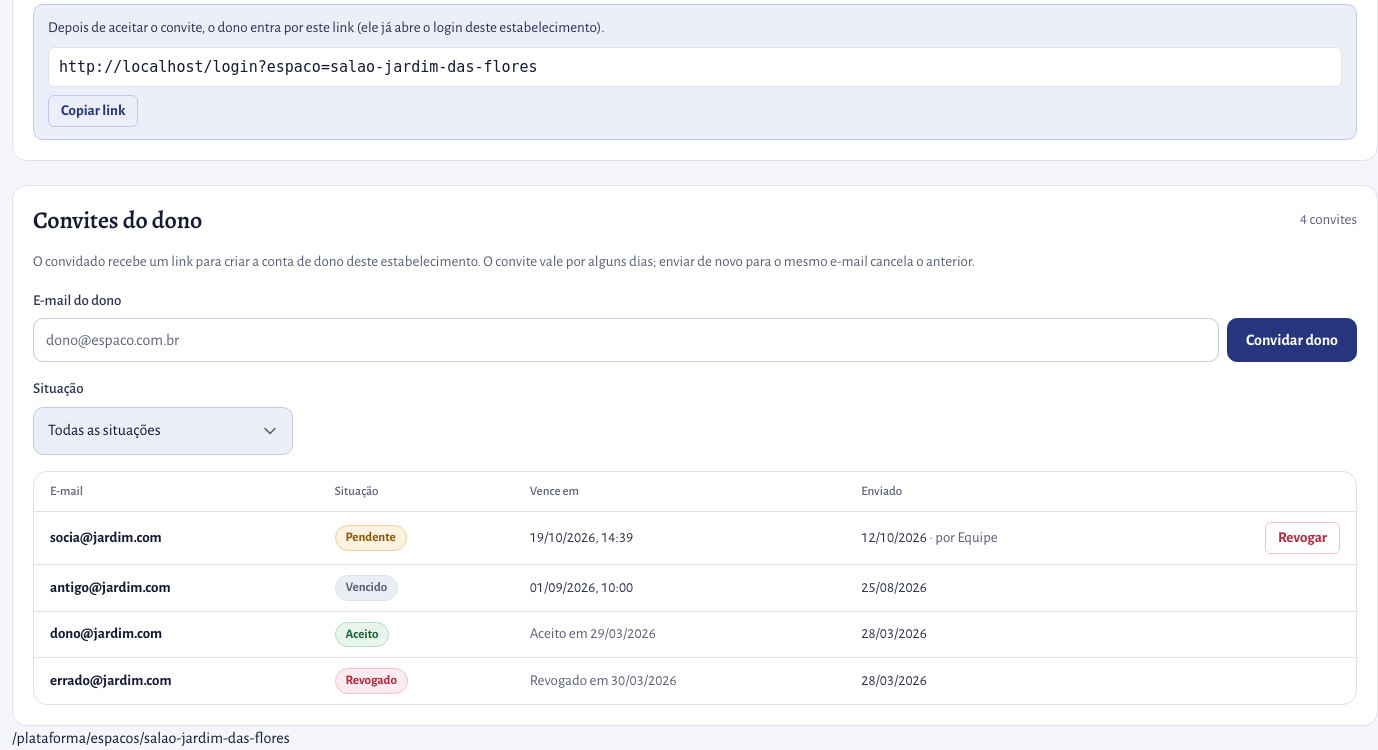
Test: Plataforma - detalhe e convites › filters invites by status through the URL
The image size is (1378, 750).
(page scrolled)
expect the table is shown: met, box [34,472,1356,704]
Select "Vencido" in the dropdown labelled "Situação" at (163, 430), box [33,406,293,454]
(page scrolled)
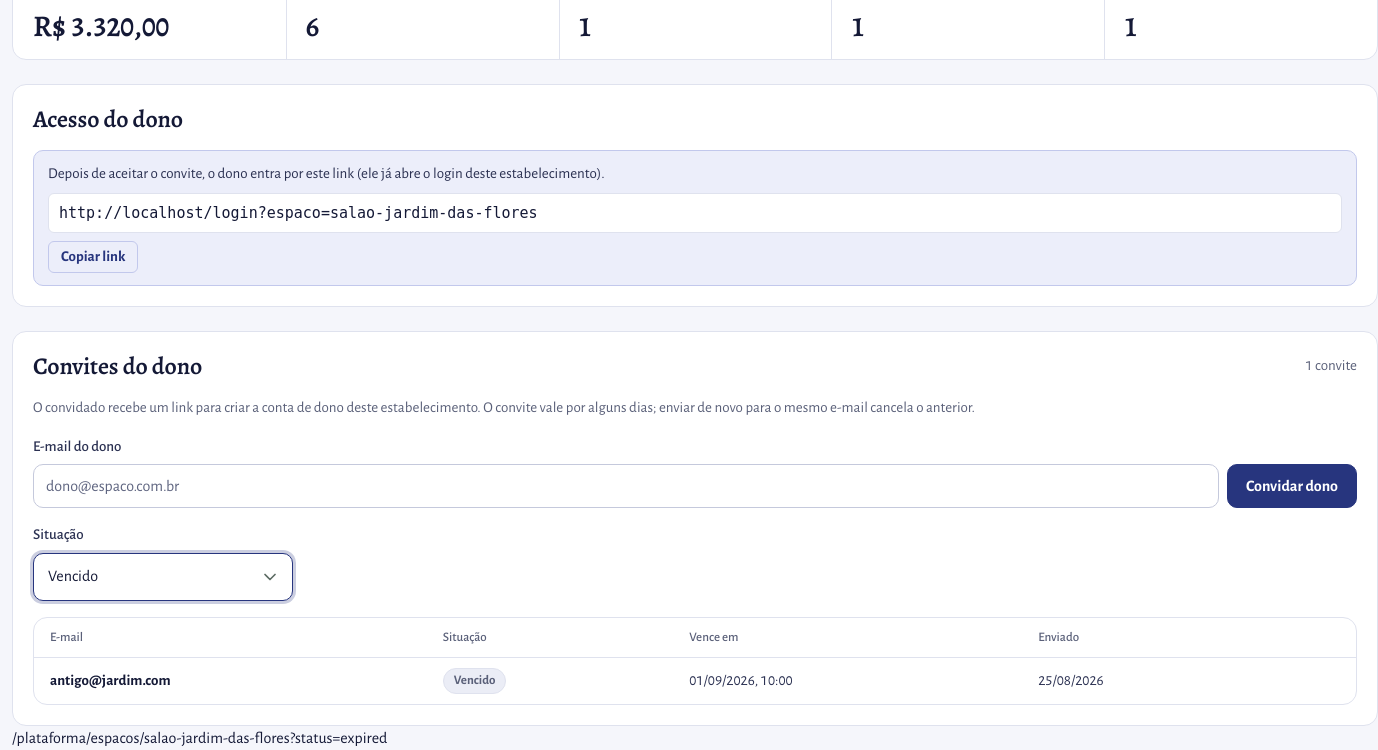
expect the text "antigo@jardim.com" is shown: met, box [50,672,170,688]
expect the text with test id "location" shows "status=expired": met, box [12,730,387,746]
expect the text "socia@jardim.com" is gone: met
